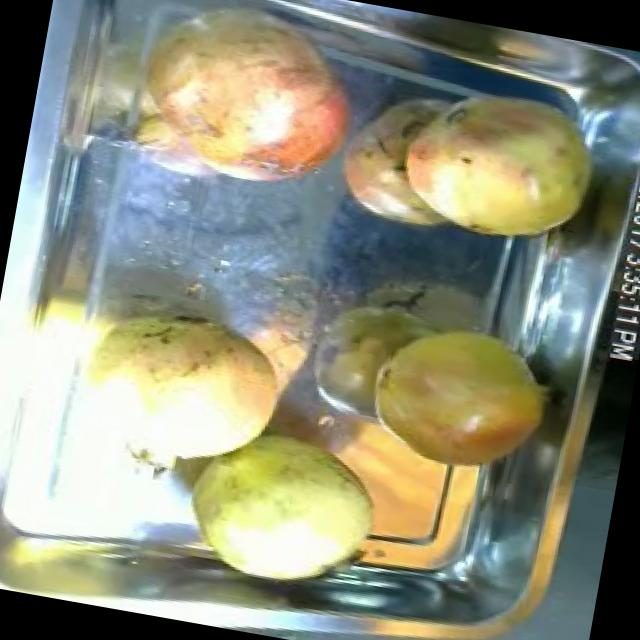fruit: (48, 284, 306, 515), (97, 0, 366, 211), (162, 405, 404, 606), (372, 66, 620, 262), (348, 304, 568, 492)
